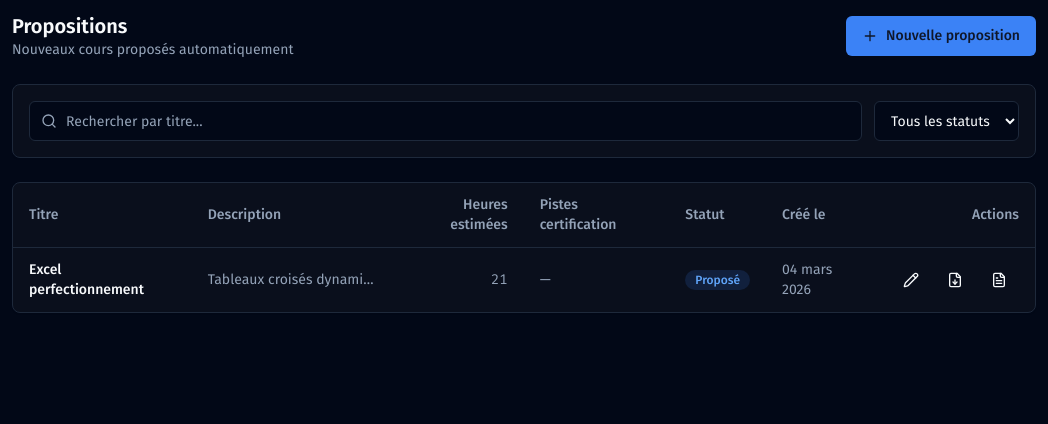
it: Page Propositions — bouton export › affiche l’échec sans casser la page
Expected: the text "Excel perfectionnement" is shown, [13, 248, 192, 312]
Click the button named "en PDF" at x=955, y=280, box [935, 260, 975, 300]
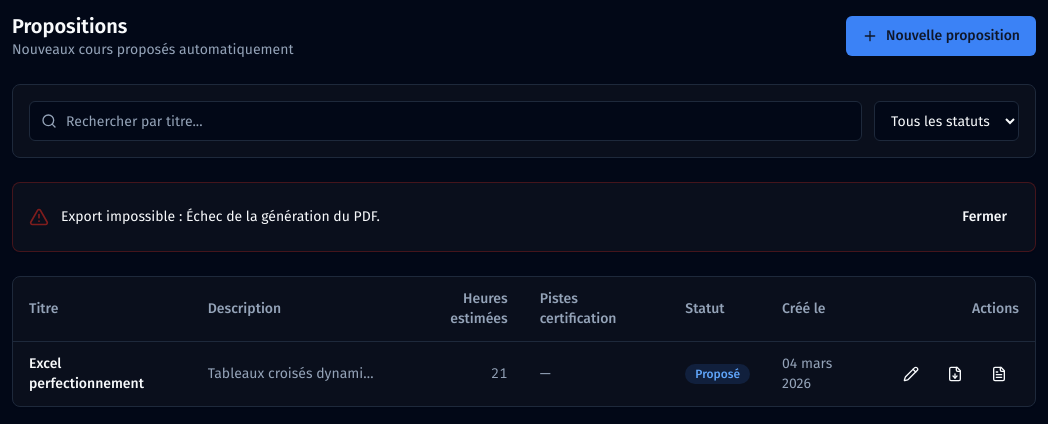
Expected: the text "Excel perfectionnement" is shown, [13, 342, 192, 406]
Now the text "Export impossible : Échec de la génération du PDF." is shown, box [61, 207, 380, 227]
